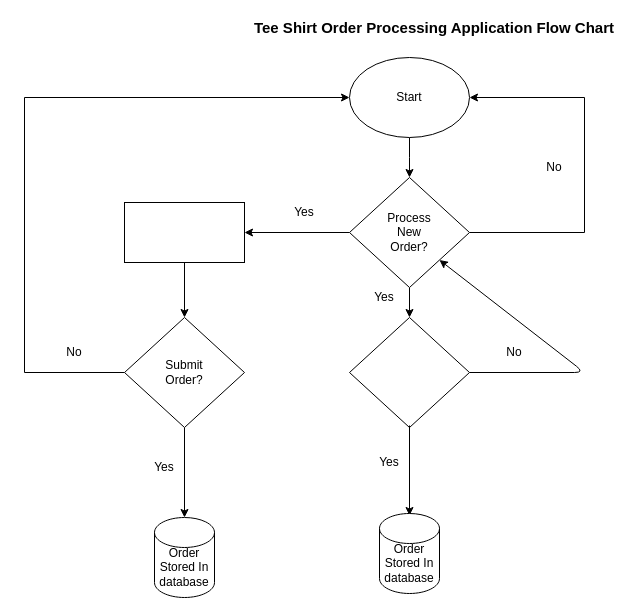
The diagram is 642 pixels wide and 615 high, and some of its shapes have lost their labels. Each missing label, with the centre of its shape:
Input Order Information: point (184, 232)
Is Data Valid?: point (409, 372)
